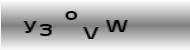3: (38, 22, 53, 37)
V: (81, 25, 100, 40)
W: (104, 18, 129, 34)
o: (65, 10, 78, 20)
y: (22, 20, 37, 33)
